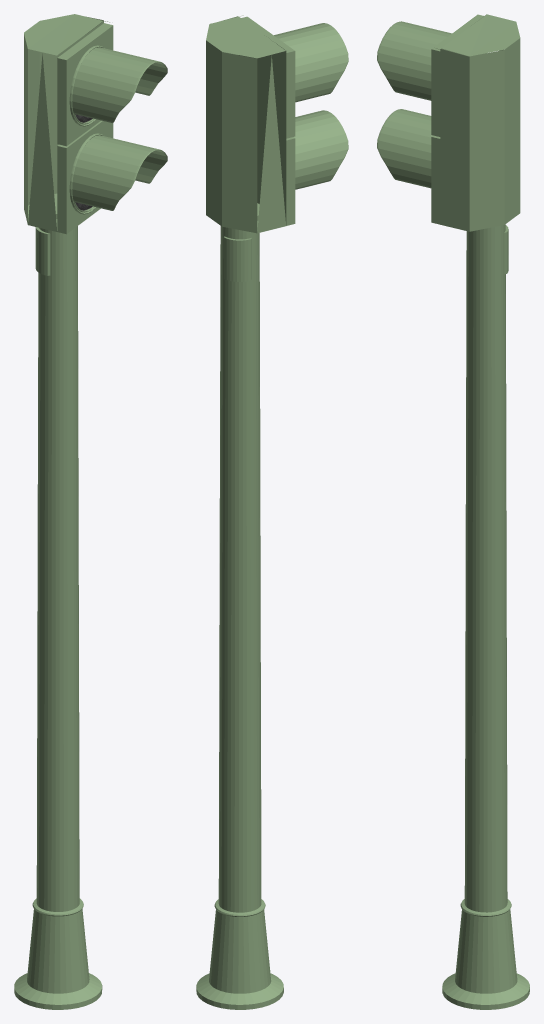
The model's file is w_highway_traffic_signals_cycle.glb.
The picture shows the model from 3 angles, left to right: view 1: azimuth 90°, elevation 25°; view 2: azimuth 150°, elevation 25°; view 3: azimuth 270°, elevation 25°; orthographic projection.
Visible parts, largest first — view 1: semaforo (SU 2017); view 2: semaforo (SU 2017); view 3: semaforo (SU 2017).
Part boxes in pixels (x1=…): semaforo (SU 2017): x1=14, y1=14, x2=167, y2=1009; semaforo (SU 2017): x1=196, y1=15, x2=348, y2=1009; semaforo (SU 2017): x1=377, y1=14, x2=529, y2=1009.
Size of the model in its own units: 0.3241 by 2.66 by 0.3854.
3 materials, 2 textured.
